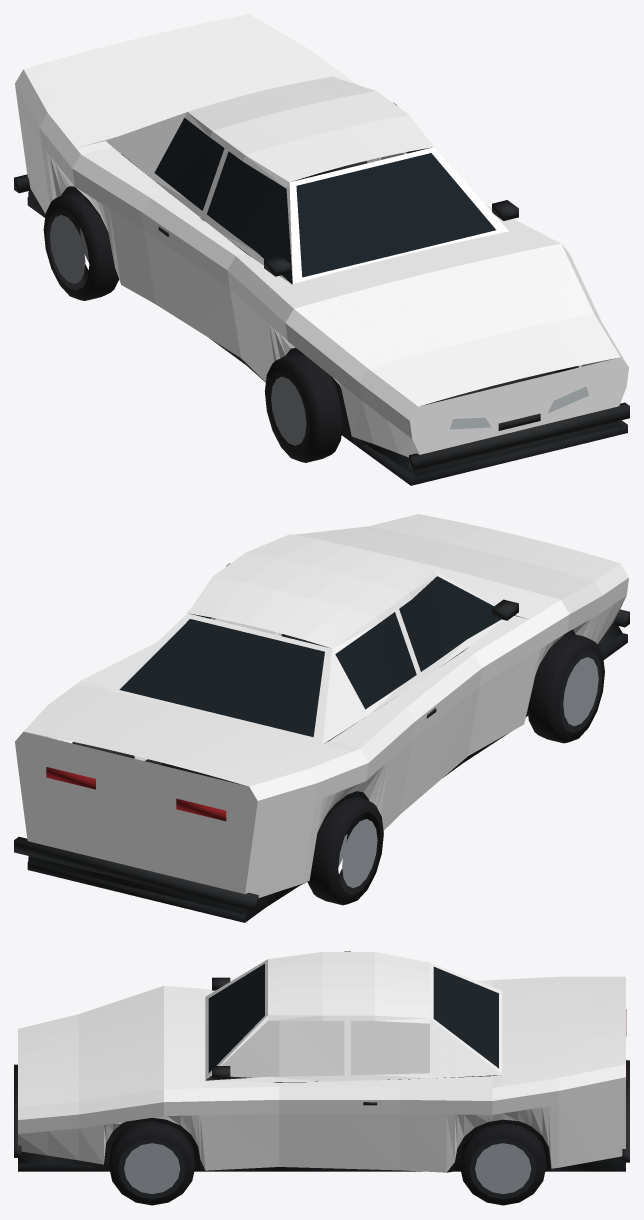
The model's file is keldorf_gongora.glb.
The picture shows the model from 3 angles, top to bottom: view 1: azimuth 30°, elevation 25°; view 2: azimuth 150°, elevation 25°; view 3: azimuth 270°, elevation 25°; orthographic projection. The views are drawn at different scales.
Visible parts, largest first — view 1: Body_Paint, Body_Details, Mount_FrontLeft_Wheel_Details, Mount_RearLeft_Wheel_Details; view 2: Body_Paint, Body_Details, Mount_FrontLeft_Wheel_Details, Mount_RearLeft_Wheel_Details; view 3: Body_Paint, Body_Details, Mount_FrontRight_Wheel_Details, Mount_RearRight_Wheel_Details.
Part boxes in pixels (bbox=[...]): Body_Paint: bbox=[15, 14, 628, 457]; Body_Details: bbox=[14, 118, 629, 485]; Mount_FrontLeft_Wheel_Details: bbox=[264, 353, 342, 462]; Mount_RearLeft_Wheel_Details: bbox=[43, 192, 118, 300]; Body_Paint: bbox=[15, 514, 628, 897]; Body_Details: bbox=[14, 576, 629, 922]; Mount_FrontLeft_Wheel_Details: bbox=[527, 632, 604, 743]; Mount_RearLeft_Wheel_Details: bbox=[307, 796, 383, 905]; Body_Paint: bbox=[18, 951, 625, 1172]; Body_Details: bbox=[14, 963, 629, 1172]; Mount_FrontRight_Wheel_Details: bbox=[109, 1121, 195, 1205]; Mount_RearRight_Wheel_Details: bbox=[460, 1123, 546, 1205].
Size of the model in its own units: 1.91 by 1.32 by 4.34.
2 materials, 1 textured.
